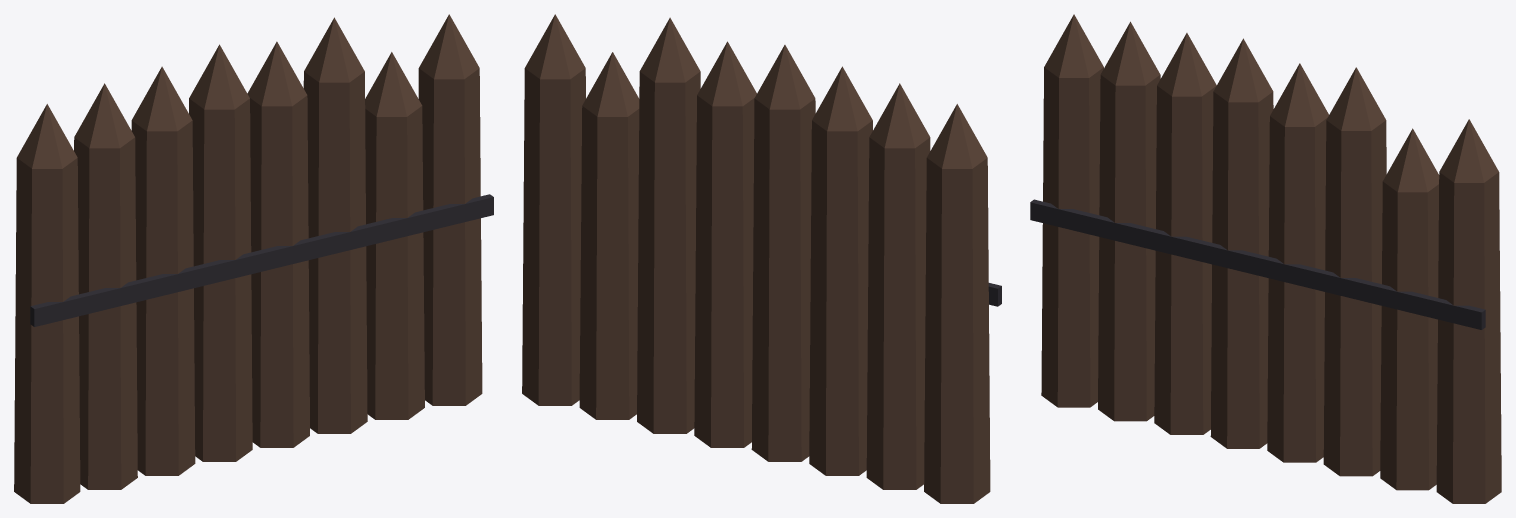
The model's file is palisade.glb.
3 renders of one model, left to right at view 1: azimuth 30°, elevation 25°; view 2: azimuth 150°, elevation 25°; view 3: azimuth 330°, elevation 25°, orthographic.
Visible parts, largest first — view 1: Palisade; view 2: Palisade; view 3: Palisade.
Boxes of the visible parts, x1,y1,x2,y2 form: Palisade: (14, 14, 493, 503); Palisade: (522, 14, 1001, 503); Palisade: (1030, 14, 1501, 503).
Bounding box in the file's own units: 8 × 6.75 × 1.
